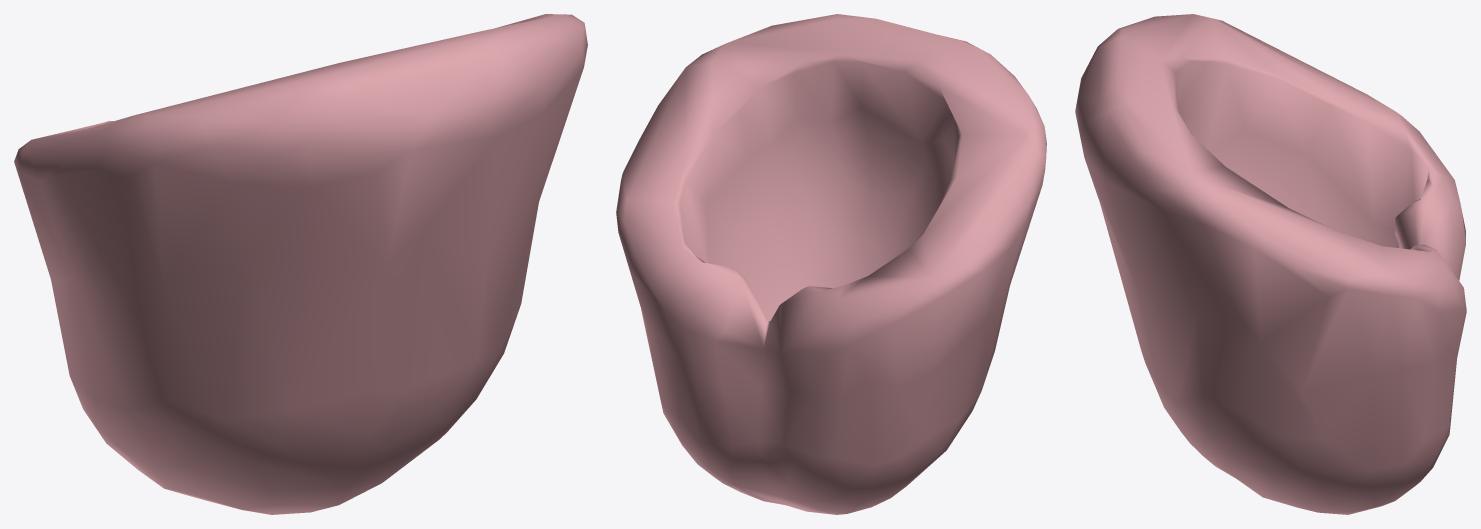
Rendered from visceras-glans-penis.glb.
The picture shows the model from 3 angles, left to right: view 1: azimuth 30°, elevation 25°; view 2: azimuth 150°, elevation 25°; view 3: azimuth 270°, elevation 25°; orthographic projection. The views are drawn at different scales.
Parts seen in each view (by area): view 1: Glans penis; view 2: Glans penis; view 3: Glans penis.
Boxes of the visible parts, x1,y1,x2,y2 form: Glans penis: [14, 14, 587, 514]; Glans penis: [616, 14, 1046, 514]; Glans penis: [1075, 14, 1466, 514].
Size of the model in its own units: 0.0308 by 0.0315 by 0.0257.
